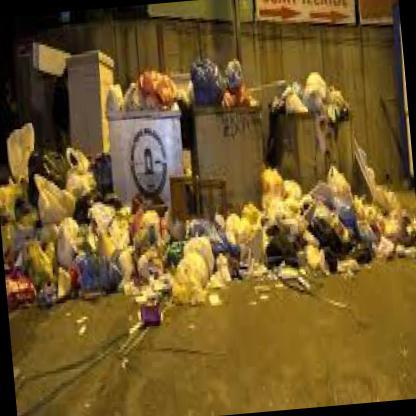Garbage: (0, 180, 121, 298), (7, 126, 98, 271), (122, 207, 232, 318), (317, 184, 415, 278), (228, 202, 314, 288), (180, 52, 256, 110), (103, 62, 179, 113), (271, 68, 345, 112), (258, 161, 305, 221)
